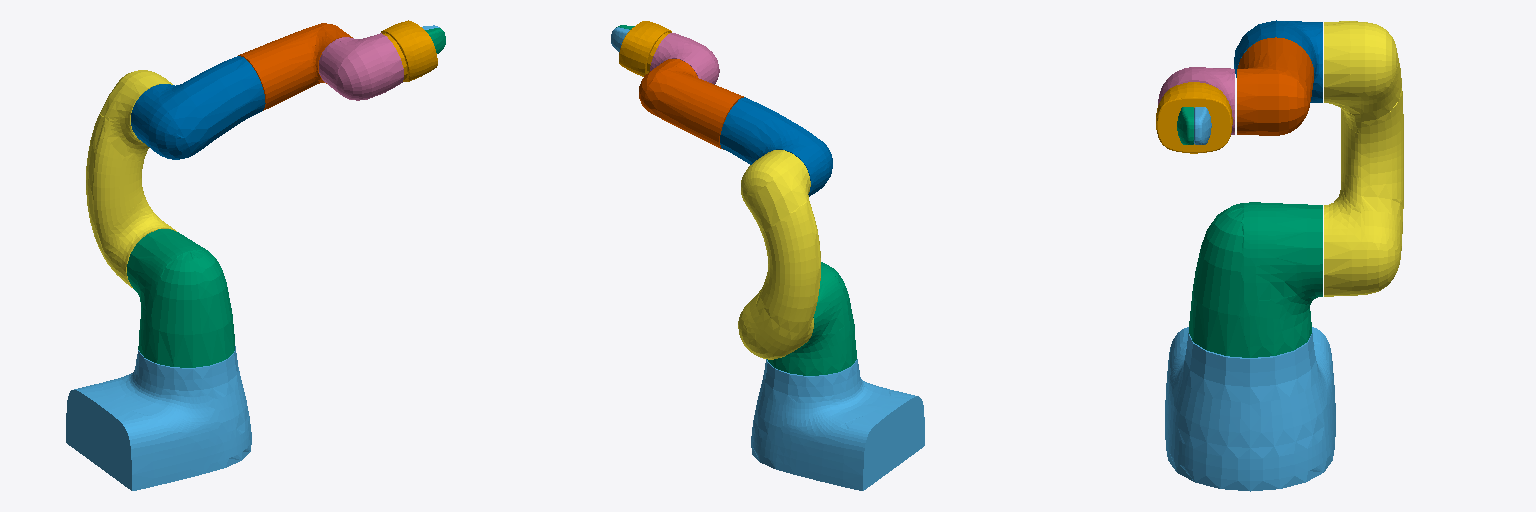
robot.urdf — cobotta:
<?xml version="1.0" ?>
<!-- =================================================================================== -->
<!-- |    This document was autogenerated by xacro from denso_cobotta_descriptions/cobotta_description/cobotta.urdf.xacro | -->
<!-- |    EDITING THIS FILE BY HAND IS NOT RECOMMENDED                                 | -->
<!-- =================================================================================== -->
<robot name="cobotta">
  <!-- plugin for Gazebo -->
  <gazebo>
    <plugin filename="libgazebo_ros_control.so" name="gazebo_ros_control">
      <robotNamespace>/cobotta</robotNamespace>
      <robotSimType>gazebo_ros_control/DefaultRobotHWSim</robotSimType>
      <legacyModeNS>true</legacyModeNS>
    </plugin>
  </gazebo>
  <link name="world"/>
  <joint name="joint_w" type="fixed">
    <parent link="world"/>
    <child link="base_link"/>
  </joint>
  <link name="base_link">
    <visual>
      <origin rpy="0 0 0" xyz="0 0 0"/>
      <geometry>
        <mesh filename="package://denso_cobotta_descriptions/cobotta_description/base_link.STL" scale="1 1 1"/>
      </geometry>
    </visual>
    <collision>
      <origin rpy="0 0 0" xyz="0 0 0"/>
      <geometry>
        <mesh filename="package://denso_cobotta_descriptions/cobotta_description/base_link.STL" scale="1 1 1"/>
      </geometry>
    </collision>
    <inertial>
      <mass value="1.4"/>
      <origin rpy="0.000000 0.000000 0.000000" xyz="-0.021310 0.000002 0.044011"/>
      <inertia ixx="0.0026599999999999996" ixy="0.0" ixz="0.0" iyy="0.0026599999999999996" iyz="0.0" izz="0.00448"/>
    </inertial>
  </link>
  <link name="J1">
    <visual>
      <origin rpy="0 0 0" xyz="0 0 0"/>
      <geometry>
        <mesh filename="package://denso_cobotta_descriptions/cobotta_description/J1.STL" scale="1 1 1"/>
      </geometry>
    </visual>
    <collision>
      <origin rpy="0 0 0" xyz="0 0 0"/>
      <geometry>
        <mesh filename="package://denso_cobotta_descriptions/cobotta_description/J1.STL" scale="1 1 1"/>
      </geometry>
    </collision>
    <inertial>
      <mass value="1.29"/>
      <origin rpy="0.000000 0.000000 0.000000" xyz="0.000000 0.000000 0.15"/>
      <inertia ixx="0.002236" ixy="0.0" ixz="0.0" iyy="0.002236" iyz="0.0" izz="0.002322"/>
    </inertial>
  </link>
  <joint name="joint_1" type="revolute">
    <parent link="base_link"/>
    <child link="J1"/>
    <origin rpy="0.000000 0.000000 0.000000" xyz="0.000000 0.000000 0.000000"/>
    <axis xyz="-0.000000 -0.000000 1.000000"/>
    <limit effort="10" lower="-2.617994" upper="2.617994" velocity="0.40317105721069"/>
    <dynamics damping="0.001" friction="0.61"/>
  </joint>
  <transmission name="trans_1">
    <type>transmission_interface/SimpleTransmission</type>
    <joint name="joint_1">
      <hardwareInterface>hardware_interface/PositionJointInterface</hardwareInterface>
    </joint>
    <actuator name="motor_1">
      <hardwareInterface>hardware_interface/PositionJointInterface</hardwareInterface>
      <mechanicalReduction>1</mechanicalReduction>
    </actuator>
  </transmission>
  <link name="J2">
    <visual>
      <origin rpy="0 0 0" xyz="0 0 0"/>
      <geometry>
        <mesh filename="package://denso_cobotta_descriptions/cobotta_description/J2.STL" scale="1 1 1"/>
      </geometry>
    </visual>
    <collision>
      <origin rpy="0 0 0" xyz="0 0 0"/>
      <geometry>
        <mesh filename="package://denso_cobotta_descriptions/cobotta_description/J2.STL" scale="1 1 1"/>
      </geometry>
    </collision>
    <inertial>
      <mass value="0.39"/>
      <origin rpy="0.000000 0.000000 0.000000" xyz="-0.020000 0.100000 0.070000"/>
      <inertia ixx="0.0005557499999999999" ixy="0.0" ixz="0.0" iyy="0.0005557499999999999" iyz="0.0" izz="0.0001755"/>
    </inertial>
  </link>
  <joint name="joint_2" type="revolute">
    <parent link="J1"/>
    <child link="J2"/>
    <origin rpy="0.000000 0.000000 0.000000" xyz="0.000000 0.000000 0.180000"/>
    <axis xyz="-0.000000 1.000000 -0.000000"/>
    <limit effort="10" lower="-1.047198" upper="1.745329" velocity="0.392175482923126"/>
    <dynamics damping="0.001" friction="0.61"/>
  </joint>
  <transmission name="trans_2">
    <type>transmission_interface/SimpleTransmission</type>
    <joint name="joint_2">
      <hardwareInterface>hardware_interface/PositionJointInterface</hardwareInterface>
    </joint>
    <actuator name="motor_2">
      <hardwareInterface>hardware_interface/PositionJointInterface</hardwareInterface>
      <mechanicalReduction>1</mechanicalReduction>
    </actuator>
  </transmission>
  <link name="J3">
    <visual>
      <origin rpy="0 0 0" xyz="0 0 0"/>
      <geometry>
        <mesh filename="package://denso_cobotta_descriptions/cobotta_description/J3.STL" scale="1 1 1"/>
      </geometry>
    </visual>
    <collision>
      <origin rpy="0 0 0" xyz="0 0 0"/>
      <geometry>
        <mesh filename="package://denso_cobotta_descriptions/cobotta_description/J3.STL" scale="1 1 1"/>
      </geometry>
    </collision>
    <inertial>
      <mass value="0.35"/>
      <origin rpy="0.000000 0.000000 0.000000" xyz="-0.01000 0.020000 0.030000"/>
      <inertia ixx="0.0004316666666666666" ixy="0.0" ixz="0.0" iyy="0.0004316666666666666" iyz="0.0" izz="0.00015749999999999998"/>
    </inertial>
  </link>
  <joint name="joint_3" type="revolute">
    <parent link="J2"/>
    <child link="J3"/>
    <origin rpy="0.000000 0.000000 0.000000" xyz="0.000000 0.000000 0.165000"/>
    <axis xyz="-0.000000 1.000000 -0.000000"/>
    <limit effort="10" lower="0.3141593" upper="2.443461" velocity="0.725707902979242"/>
    <dynamics damping="0.001" friction="0.61"/>
  </joint>
  <transmission name="trans_3">
    <type>transmission_interface/SimpleTransmission</type>
    <joint name="joint_3">
      <hardwareInterface>hardware_interface/PositionJointInterface</hardwareInterface>
    </joint>
    <actuator name="motor_3">
      <hardwareInterface>hardware_interface/PositionJointInterface</hardwareInterface>
      <mechanicalReduction>1</mechanicalReduction>
    </actuator>
  </transmission>
  <link name="J4">
    <visual>
      <origin rpy="0 0 0" xyz="0 0 0"/>
      <geometry>
        <mesh filename="package://denso_cobotta_descriptions/cobotta_description/J4.STL" scale="1 1 1"/>
      </geometry>
    </visual>
    <collision>
      <origin rpy="0 0 0" xyz="0 0 0"/>
      <geometry>
        <mesh filename="package://denso_cobotta_descriptions/cobotta_description/J4.STL" scale="1 1 1"/>
      </geometry>
    </collision>
    <inertial>
      <mass value="0.35"/>
      <origin rpy="0.000000 0.000000 0.000000" xyz="0.0000 0.000000 0.055000"/>
      <inertia ixx="0.0004316666666666666" ixy="0.0" ixz="0.0" iyy="0.0004316666666666666" iyz="0.0" izz="0.00015749999999999998"/>
    </inertial>
  </link>
  <joint name="joint_4" type="revolute">
    <parent link="J3"/>
    <child link="J4"/>
    <origin rpy="0.000000 0.000000 0.000000" xyz="-0.012000 0.020000 0.088000"/>
    <axis xyz="-0.000000 -0.000000 1.000000"/>
    <limit effort="10" lower="-2.96706" upper="2.96706" velocity="0.739146938219599"/>
    <dynamics damping="0.001" friction="0.61"/>
  </joint>
  <transmission name="trans_4">
    <type>transmission_interface/SimpleTransmission</type>
    <joint name="joint_4">
      <hardwareInterface>hardware_interface/PositionJointInterface</hardwareInterface>
    </joint>
    <actuator name="motor_4">
      <hardwareInterface>hardware_interface/PositionJointInterface</hardwareInterface>
      <mechanicalReduction>1</mechanicalReduction>
    </actuator>
  </transmission>
  <link name="J5">
    <visual>
      <origin rpy="0 0 0" xyz="0 0 0"/>
      <geometry>
        <mesh filename="package://denso_cobotta_descriptions/cobotta_description/J5.STL" scale="1 1 1"/>
      </geometry>
    </visual>
    <collision>
      <origin rpy="0 0 0" xyz="0 0 0"/>
      <geometry>
        <mesh filename="package://denso_cobotta_descriptions/cobotta_description/J5.STL" scale="1 1 1"/>
      </geometry>
    </collision>
    <inertial>
      <mass value="0.19"/>
      <origin rpy="0.000000 0.000000 0.000000" xyz="0.000000 -0.040000 0.015000"/>
      <inertia ixx="9.974999999999999e-05" ixy="0.0" ixz="0.0" iyy="9.974999999999999e-05" iyz="0.0" izz="8.55e-05"/>
    </inertial>
  </link>
  <joint name="joint_5" type="revolute">
    <parent link="J4"/>
    <child link="J5"/>
    <origin rpy="0.000000 0.000000 0.000000" xyz="0.000000 -0.020000 0.089500"/>
    <axis xyz="-0.000000 1.000000 -0.000000"/>
    <limit effort="10" lower="-1.658063" upper="2.356194" velocity="0.739146938219599"/>
    <dynamics damping="0.001" friction="0.61"/>
  </joint>
  <transmission name="trans_5">
    <type>transmission_interface/SimpleTransmission</type>
    <joint name="joint_5">
      <hardwareInterface>hardware_interface/PositionJointInterface</hardwareInterface>
    </joint>
    <actuator name="motor_5">
      <hardwareInterface>hardware_interface/PositionJointInterface</hardwareInterface>
      <mechanicalReduction>1</mechanicalReduction>
    </actuator>
  </transmission>
  <link name="J6">
    <visual>
      <origin rpy="0 0 0" xyz="0 0 0"/>
      <geometry>
        <mesh filename="package://denso_cobotta_descriptions/cobotta_description/J6.STL" scale="1 1 1"/>
      </geometry>
    </visual>
    <collision>
      <origin rpy="0 0 0" xyz="0 0 0"/>
      <geometry>
        <mesh filename="package://denso_cobotta_descriptions/cobotta_description/J6.STL" scale="1 1 1"/>
      </geometry>
    </collision>
    <inertial>
      <mass value="0.03"/>
      <origin rpy="0.000000 0.000000 0.000000" xyz="0.000000 0.000000 0.000000"/>
      <inertia ixx="7e-06" ixy="0.0" ixz="0.0" iyy="7e-06" iyz="0.0" izz="1.35e-05"/>
    </inertial>
  </link>
  <joint name="joint_6" type="revolute">
    <parent link="J5"/>
    <child link="J6"/>
    <origin rpy="0.000000 0.000000 0.000000" xyz="0.000000 -0.044500 0.042000"/>
    <axis xyz="-0.000000 -0.000000 1.000000"/>
    <limit effort="10" lower="-2.96706" upper="2.96706" velocity="1.1093312725676"/>
    <dynamics damping="0.001" friction="0.61"/>
  </joint>
  <transmission name="trans_6">
    <type>transmission_interface/SimpleTransmission</type>
    <joint name="joint_6">
      <hardwareInterface>hardware_interface/PositionJointInterface</hardwareInterface>
    </joint>
    <actuator name="motor_6">
      <hardwareInterface>hardware_interface/PositionJointInterface</hardwareInterface>
      <mechanicalReduction>1</mechanicalReduction>
    </actuator>
  </transmission>
  <link name="gripper_base">
    <visual>
      <origin rpy="0 0 0" xyz="0.000000 0.000000 0.000000"/>
      <geometry>
        <mesh filename="package://denso_cobotta_descriptions/cobotta_description/gripper_base.STL" scale="1 1 1"/>
      </geometry>
    </visual>
    <collision>
      <origin rpy="0 0 0" xyz="0 0 0"/>
      <geometry>
        <mesh filename="package://denso_cobotta_descriptions/cobotta_description/gripper_base.STL" scale="1 1 1"/>
      </geometry>
    </collision>
    <inertial>
      <mass value="1"/>
      <origin rpy="0.000000 0.000000 0.000000" xyz="0.000000 0.000000 0.000000"/>
      <inertia ixx="1" ixy="0" ixz="0" iyy="1" iyz="0" izz="1"/>
    </inertial>
  </link>
  <joint name="joint_gripper_base" type="fixed">
    <parent link="J6"/>
    <child link="gripper_base"/>
    <origin rpy="0.000000 0.000000 0.000000" xyz="0.000000 0.000000 0.0000000"/>
  </joint>
  <link name="left_finger">
    <visual>
      <origin rpy="0.000000 0.000000 0.000000" xyz="0.000000 0.000000 -0.060000"/>
      <geometry>
        <mesh filename="package://denso_cobotta_descriptions/cobotta_description/left_finger.STL" scale="1 1 1"/>
      </geometry>
    </visual>
    <collision>
      <origin rpy="0 0 0" xyz="0.000000 0.000000 -0.060000"/>
      <geometry>
        <mesh filename="package://denso_cobotta_descriptions/cobotta_description/left_finger.STL" scale="1 1 1"/>
      </geometry>
    </collision>
    <inertial>
      <mass value="1"/>
      <origin rpy="0.000000 0.000000 0.000000" xyz="0.000000 0.000000 0.000000"/>
      <inertia ixx="1" ixy="0" ixz="0" iyy="1" iyz="0" izz="1"/>
    </inertial>
  </link>
  <joint name="joint_gripper" type="prismatic">
    <parent link="gripper_base"/>
    <child link="left_finger"/>
    <origin rpy="0.000000 0.000000 0.000000" xyz="0.000000 0.000000 0.06000"/>
    <axis xyz="-0.000000 1.000000 -0.000000"/>
    <limit effort="20" lower="0.000000" upper="0.015000" velocity="0.040000"/>
    <dynamics damping="0" friction="0"/>
  </joint>
  <transmission name="trans_gripper">
    <type>transmission_interface/SimpleTransmission</type>
    <joint name="joint_gripper">
      <hardwareInterface>hardware_interface/PositionJointInterface</hardwareInterface>
    </joint>
    <actuator name="motor_gripper">
      <hardwareInterface>hardware_interface/PositionJointInterface</hardwareInterface>
      <mechanicalReduction>1</mechanicalReduction>
    </actuator>
  </transmission>
  <link name="right_finger">
    <visual>
      <origin rpy="0.000000 0.000000 0.000000" xyz="0.000000 0.000000 -0.060000"/>
      <geometry>
        <mesh filename="package://denso_cobotta_descriptions/cobotta_description/right_finger.STL" scale="1 1 1"/>
      </geometry>
    </visual>
    <collision>
      <origin rpy="0 0 0" xyz="0.000000 0.000000 -0.060000"/>
      <geometry>
        <mesh filename="package://denso_cobotta_descriptions/cobotta_description/right_finger.STL" scale="1 1 1"/>
      </geometry>
    </collision>
    <inertial>
      <mass value="1"/>
      <origin rpy="0.000000 0.000000 0.000000" xyz="0.000000 0.000000 0.000000"/>
      <inertia ixx="1" ixy="0" ixz="0" iyy="1" iyz="0" izz="1"/>
    </inertial>
  </link>
  <joint name="joint_gripper_mimic" type="prismatic">
    <parent link="gripper_base"/>
    <child link="right_finger"/>
    <mimic joint="joint_gripper" multiplier="-1.000000" offset="0.000000"/>
    <origin rpy="0.000000 0.000000 0.000000" xyz="0.000000 0.000000 0.060000"/>
    <axis xyz="-0.000000 1.000000 -0.000000"/>
    <limit effort="20" lower="-0.015000" upper="0.000000" velocity="0.040000"/>
    <dynamics damping="0" friction="0"/>
  </joint>
</robot>

--- Render facts (derived) ---
Views: 3 orthographic renders of the robot side by side, from view 1: azimuth 30°, elevation 25°; view 2: azimuth 150°, elevation 25°; view 3: azimuth 270°, elevation 25°.
Robot: cobotta — 11 links, 10 joints (6 revolute, 2 prismatic, 2 fixed); root link world; default pose: all joints at 0 but 1 set to mid-range because 0 is outside their limits (joint_3 = 1.38).
Links seen in each view (by area): view 1: base_link, J1, J2, J3, J4, J5, gripper_base; view 2: base_link, J2, J4, J3, J1, J5, gripper_base; view 3: base_link, J2, J1, J4, gripper_base, J3, J5, left_finger, right_finger.
Boxes of the visible links, x1,y1,x2,y2 form: base_link: (66, 346, 251, 490); J1: (127, 229, 234, 367); J2: (86, 70, 176, 287); J3: (131, 56, 265, 159); J4: (238, 23, 352, 110); J5: (319, 33, 403, 100); gripper_base: (381, 20, 437, 81); base_link: (751, 359, 924, 490); J2: (738, 150, 820, 359); J4: (639, 59, 743, 149); J3: (720, 97, 832, 196); J1: (767, 262, 856, 375); J5: (650, 33, 719, 84); gripper_base: (619, 21, 671, 76); base_link: (1165, 327, 1335, 491); J2: (1324, 21, 1403, 296); J1: (1189, 202, 1322, 357); J4: (1237, 37, 1313, 135); gripper_base: (1156, 82, 1232, 153); J3: (1234, 20, 1322, 102); J5: (1158, 67, 1234, 134); left_finger: (1194, 107, 1211, 144); right_finger: (1177, 107, 1193, 144).
Bounding box of the posed robot: 0.3748 × 0.1971 × 0.4286 m (x, y, z).
Meshes: 10 distinct files referenced, 10 mesh visuals loaded (10 binary STL).